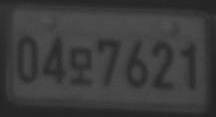0: (15, 35, 38, 83)
1: (179, 43, 201, 89)
2: (151, 42, 176, 89)
4: (41, 37, 67, 84)
6: (124, 41, 150, 87)
7: (96, 38, 122, 86)
모: (68, 47, 93, 85)
